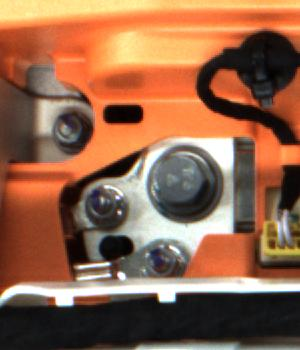nut_b: (148, 148, 227, 220)
screw_s: (49, 113, 98, 159), (85, 182, 125, 219), (145, 243, 185, 280)
